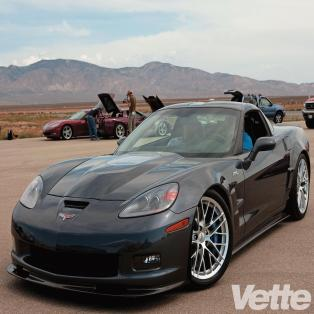Auto: (7, 99, 310, 308)
